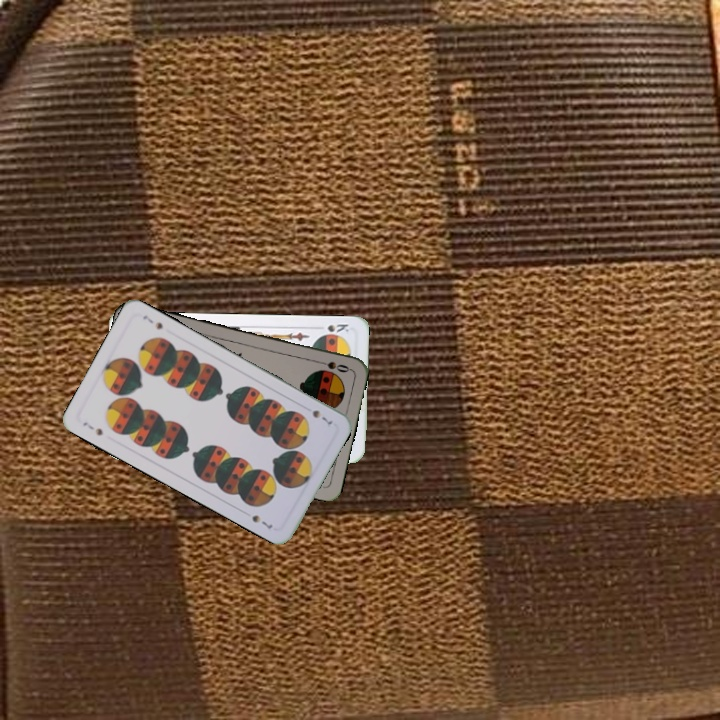S7: (308, 406, 335, 427), (79, 418, 105, 438)
SK: (323, 320, 351, 336)
SO: (312, 357, 353, 375)
